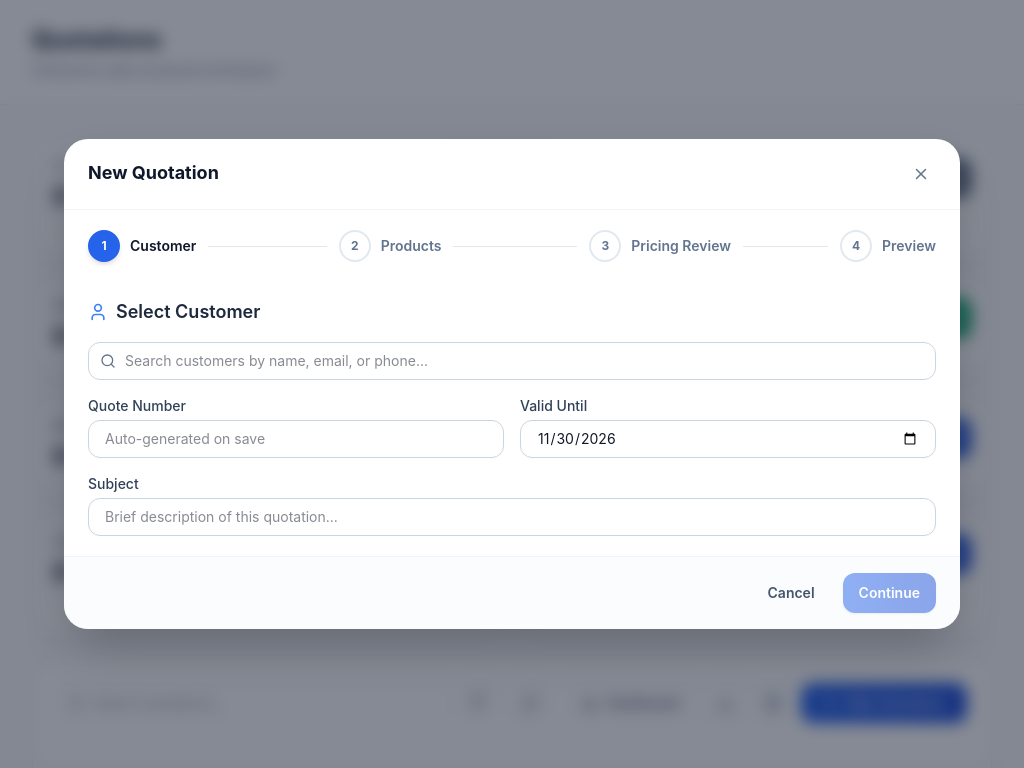
Test: New Quotation wizard › opens from ?create=1 and gates Continue on a customer
The width and height of the screenshot is (1024, 768).
Expected: the button "Continue" is disabled, [843, 573, 936, 613]
In the field labelled "Search customers by name, email, or phone...": (512, 361) [88, 342, 936, 380], type "Acme"
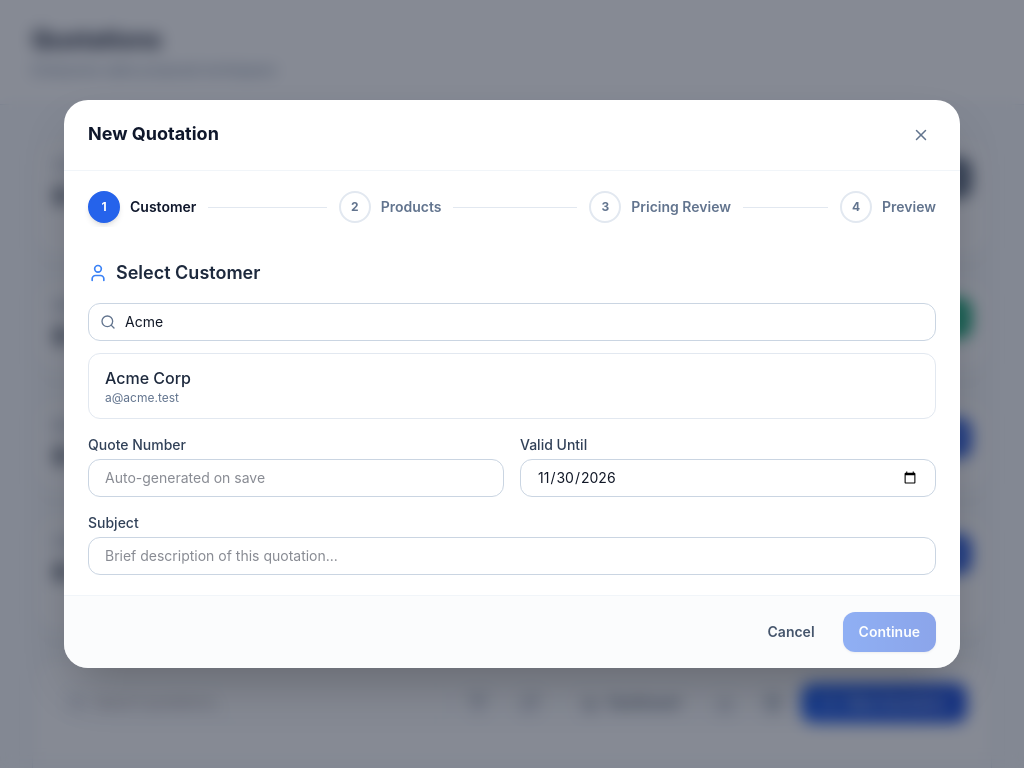
Click the button "Acme Corp a@acme.test": click(148, 378) [89, 354, 935, 418]
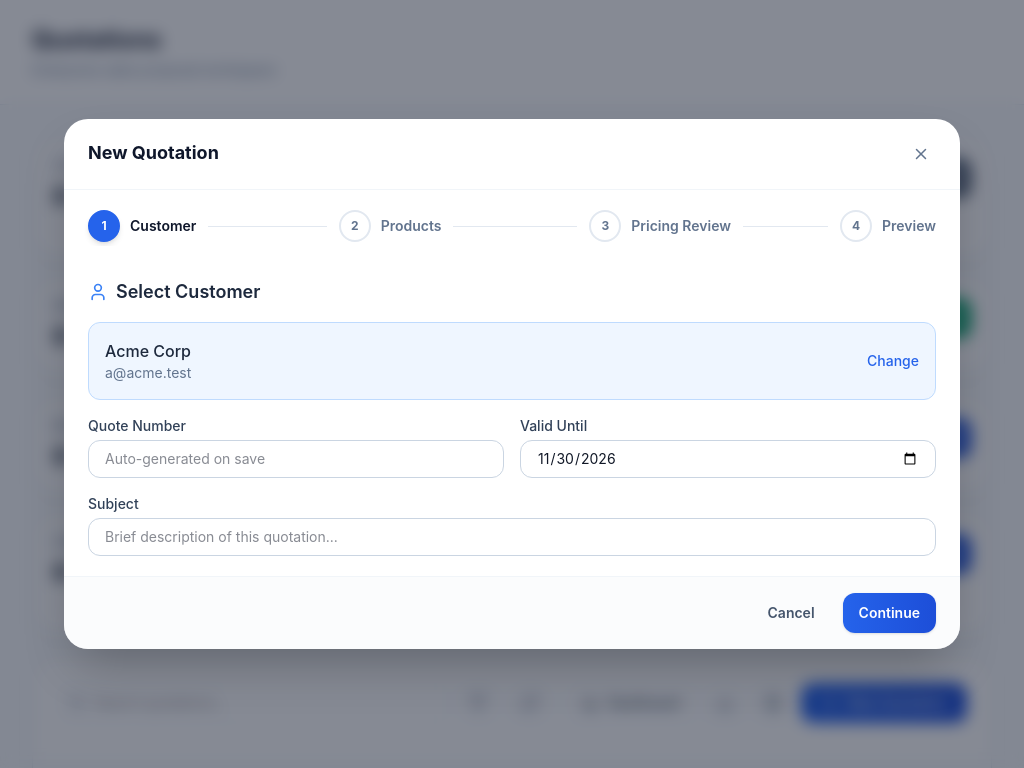
Expected: the button "Continue" is enabled, [843, 593, 936, 633]
